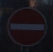No entry: (6, 5, 48, 47)
